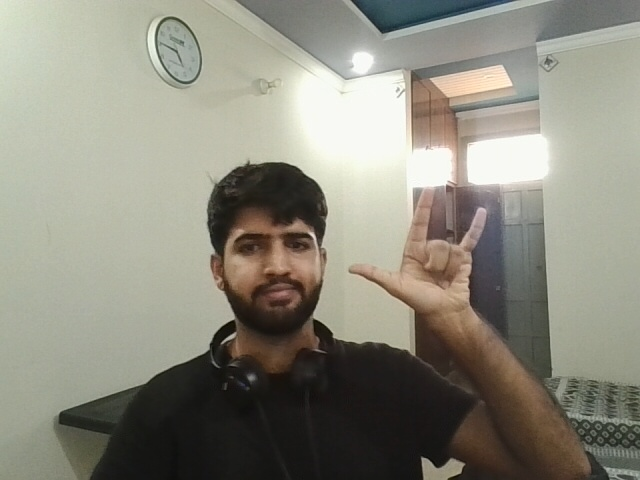I Love You: (345, 173, 507, 329)
